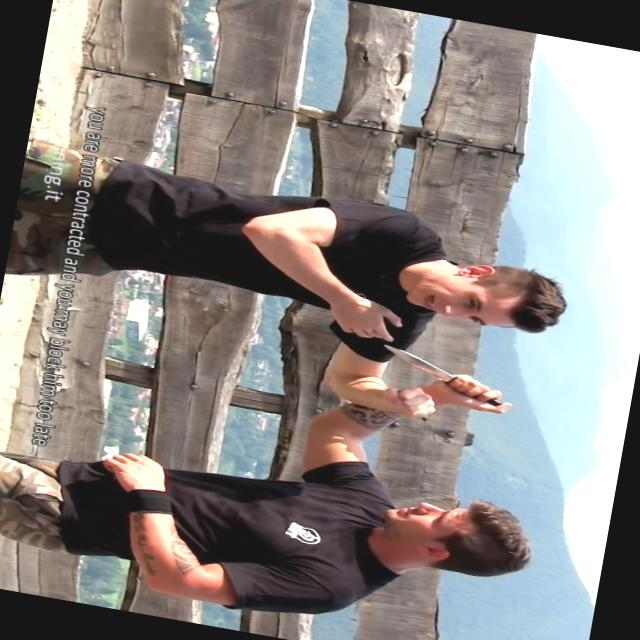knife: (370, 340, 524, 418)
